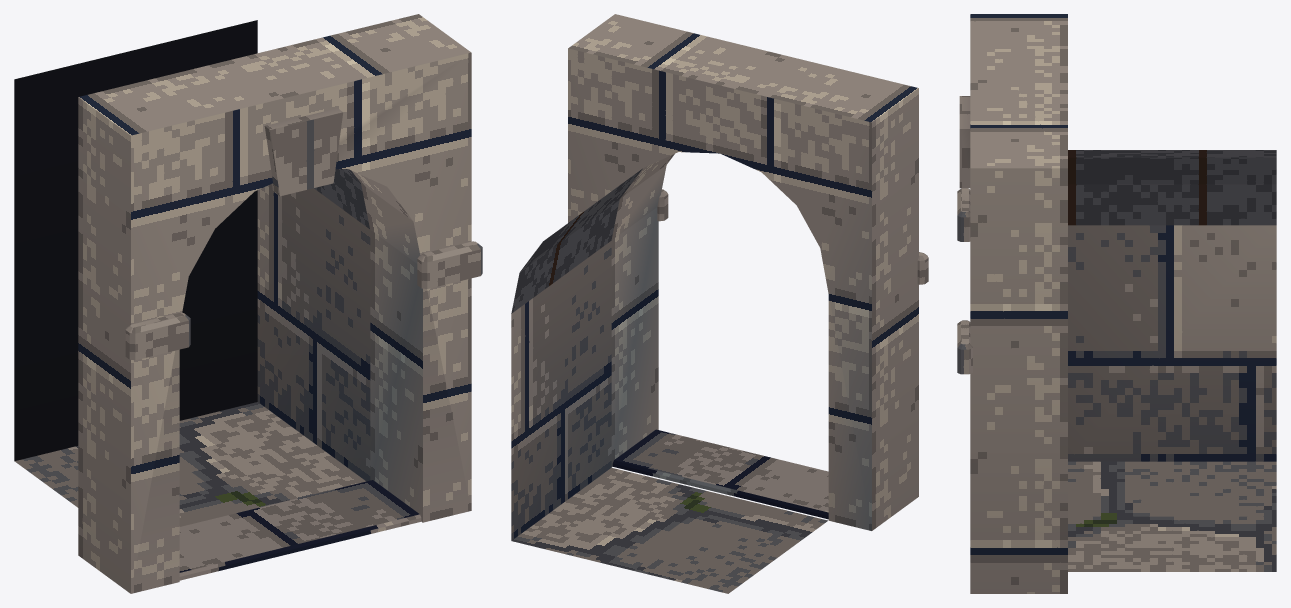
The model's file is dgn.doorway.glb.
3 views of the same model, side by side, from view 1: azimuth 30°, elevation 25°; view 2: azimuth 150°, elevation 25°; view 3: azimuth 270°, elevation 25° (orthographic). The views are drawn at different scales.
Visible parts, largest first — view 1: kit_frame, kit_shell_passage, kit_card_dark, kit_detail; view 2: kit_frame, kit_shell_passage, kit_detail; view 3: kit_shell_passage, kit_frame, kit_detail.
Boxes of the visible parts, x1,y1,x2,y2 form: kit_frame: (78, 14, 471, 593); kit_shell_passage: (15, 169, 370, 526); kit_card_dark: (14, 20, 257, 461); kit_detail: (125, 108, 482, 580); kit_frame: (568, 14, 918, 530); kit_shell_passage: (511, 168, 827, 593); kit_detail: (612, 189, 928, 519); kit_shell_passage: (1068, 150, 1276, 571); kit_frame: (970, 14, 1067, 593); kit_detail: (957, 96, 972, 374).
Bounding box in the file's own units: 2.9 × 3.6 × 2.45.
7 materials, 7 textured.
